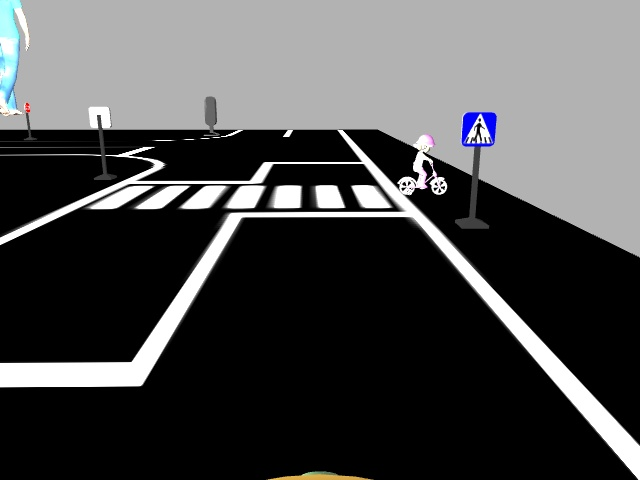Crosswalk: (458, 110, 497, 147)
Pedestrian: (388, 129, 454, 201)
